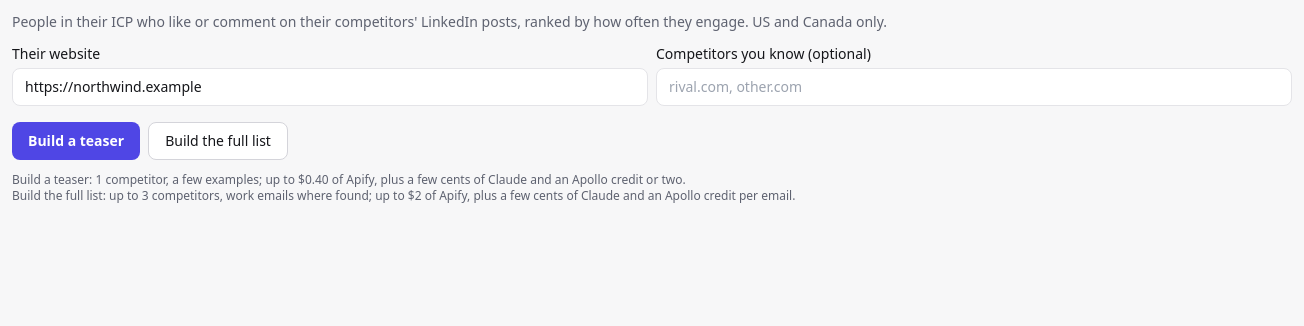
Test: the lead magnet section › builds a teaser from the company's website and the competitors typed in
Expected: the field labelled "Their website" holds "https://northwind.example", top-left (12, 68), bottom-right (648, 106)
Type "rival.example, other.example" into the field labelled "Competitors you know (optional)".
click(974, 87); type("rival.example, other.example")  # box top-left (656, 68), bottom-right (1292, 106)
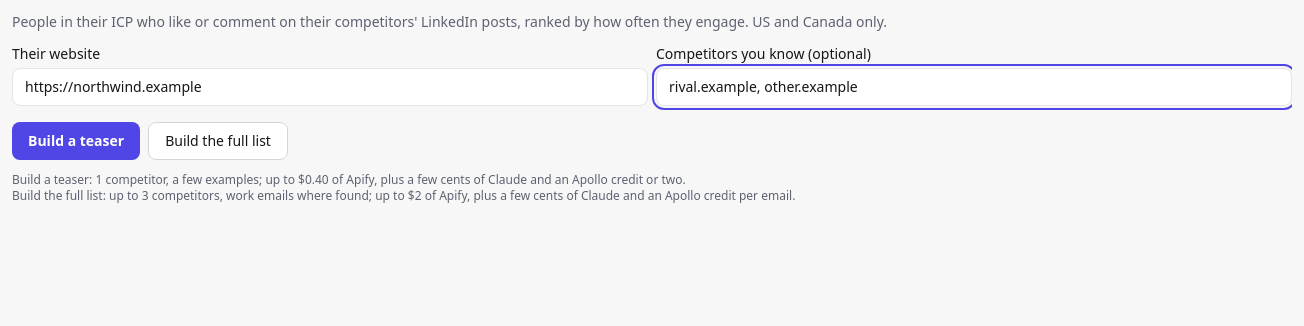
Click the button "Build a teaser".
click(76, 141)  # box top-left (12, 122), bottom-right (140, 160)
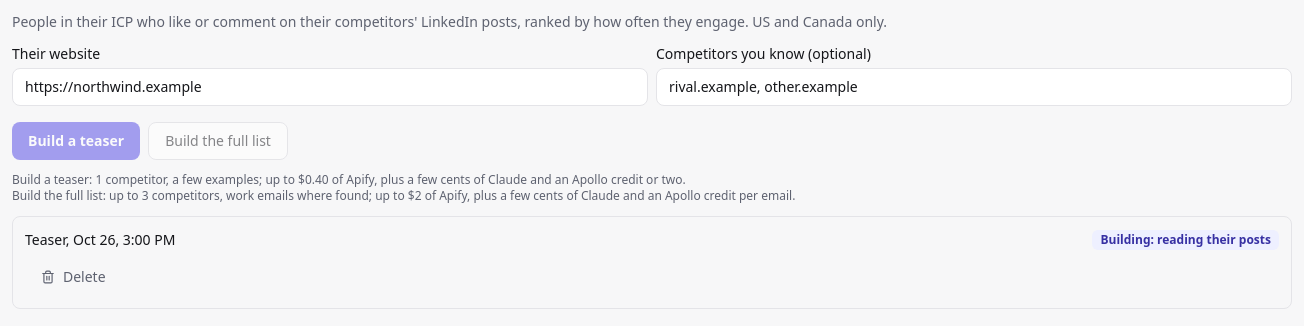
Expected: the text "Building: reading their posts" is shown, top-left (1092, 230), bottom-right (1279, 250)
Expected: the button "Build the full list" is disabled, top-left (148, 122), bottom-right (288, 160)
